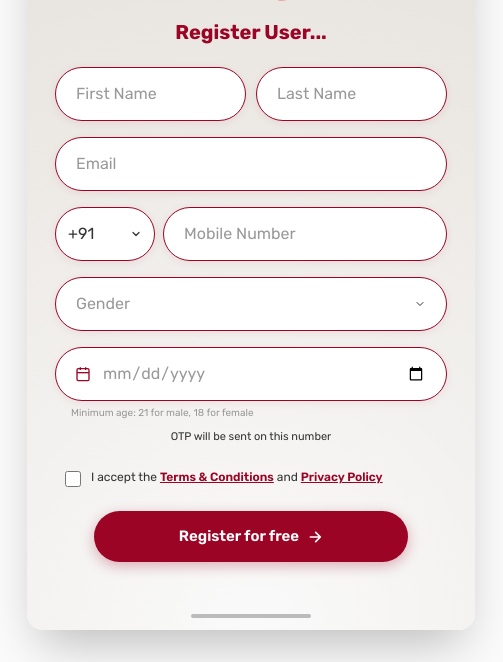
RegisterUser – Step 1 form › shows email validation error for invalid email format
(page scrolled)
Step 1. Type "Rahul" into the field with placeholder "First Name" → (150, 94), box [55,67,246,121]
Step 2. Type "Sharma" into the field with placeholder "Last Name" → (352, 94), box [256,67,447,121]
Step 3. Type "invalid@domain" into the field with placeholder "Email" → (251, 164), box [55,137,447,191]
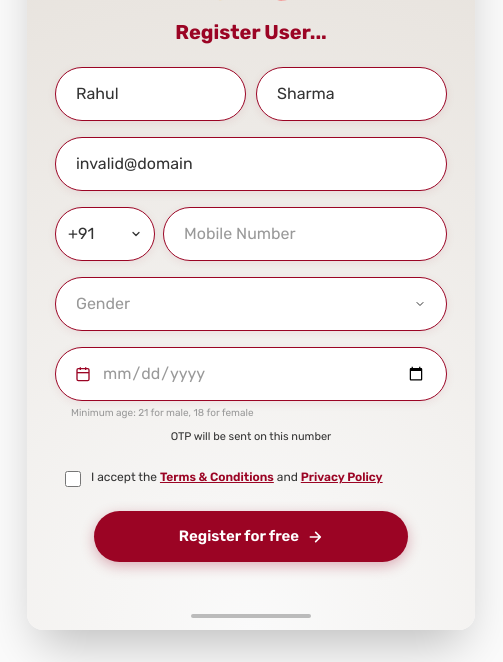
Step 4. Type "9876543210" into the field with placeholder "Mobile Number" → (305, 234), box [163,207,447,261]
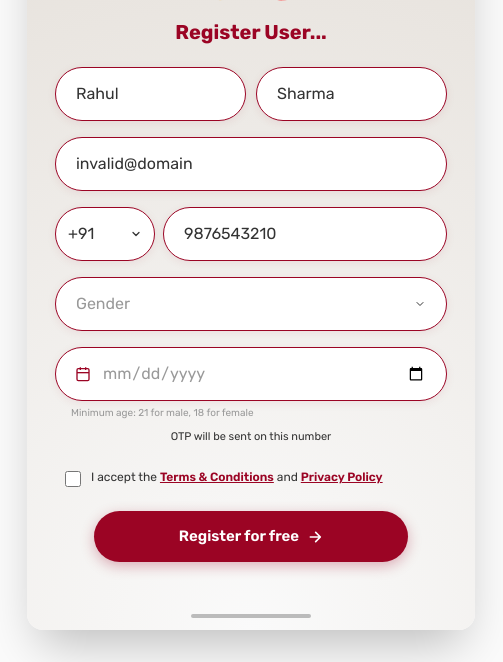
Select gender to pass gender validation
Step 5. Select "Male" in the dropdown → (251, 304), box [55,277,447,331]
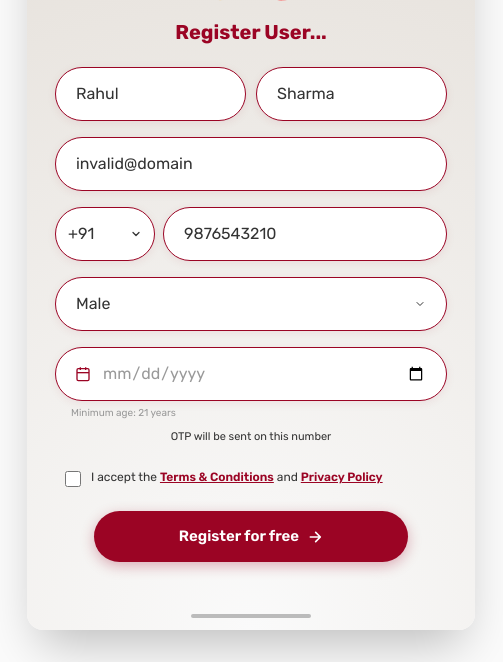
 Set DOB
Step 6. Type "2000-01-01" into the date field with placeholder "DD-MM-YYYY" → (251, 374), box [55,347,447,401]
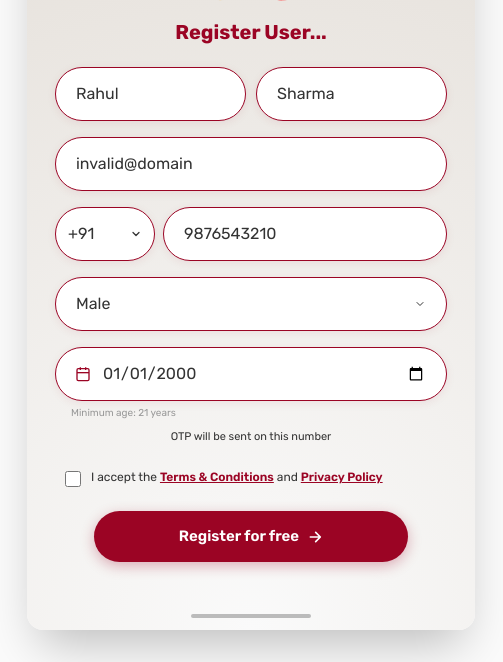
Accept terms
Step 7. Click the checkbox → (73, 479), box [65,471,81,487]
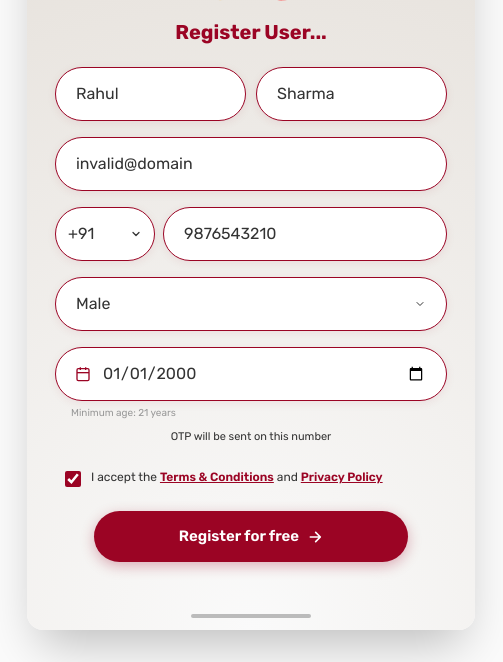
Step 8. Click the button "Register for free" → (251, 537), box [94,511,408,562]
(page scrolled)
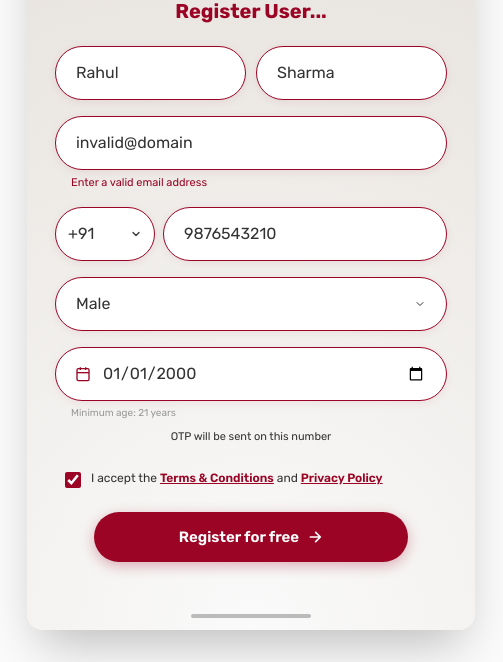
Expected: the text "Enter a valid email address" is shown, [71,176,207,189]
